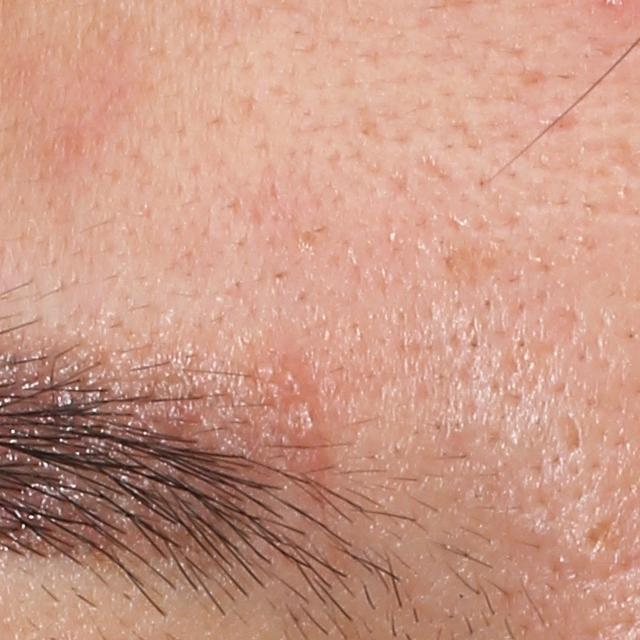atrophic_scar: (540, 302, 593, 364), (550, 407, 588, 463), (583, 517, 615, 552)
